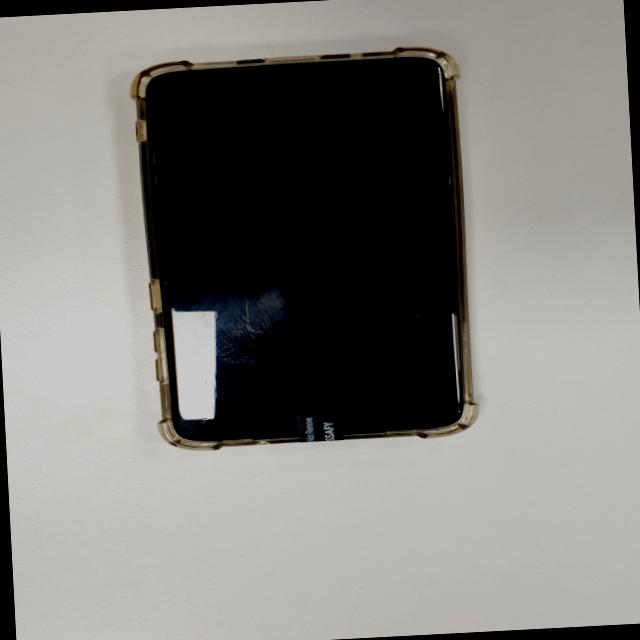phone: (130, 42, 482, 454)
sticker: (300, 412, 340, 442)
